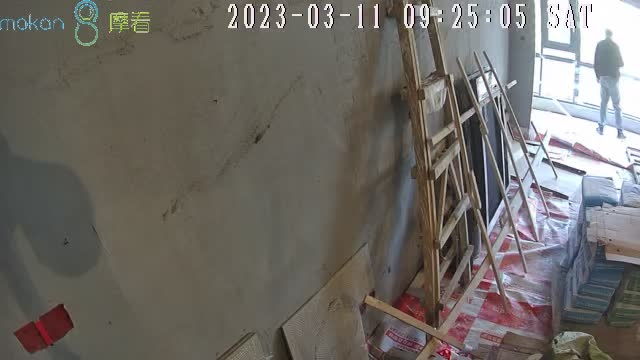people: (593, 29, 626, 139)
window: (536, 1, 640, 124)
